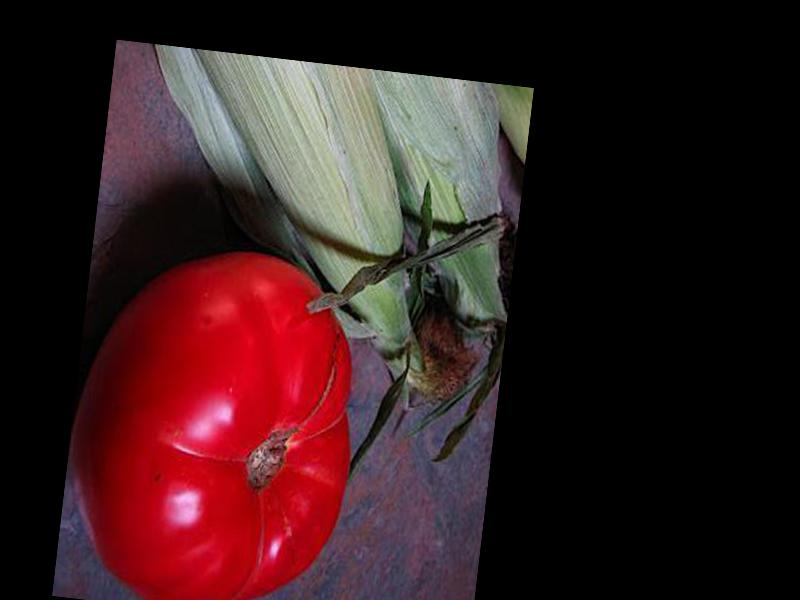Tomato: (56, 235, 372, 600)
